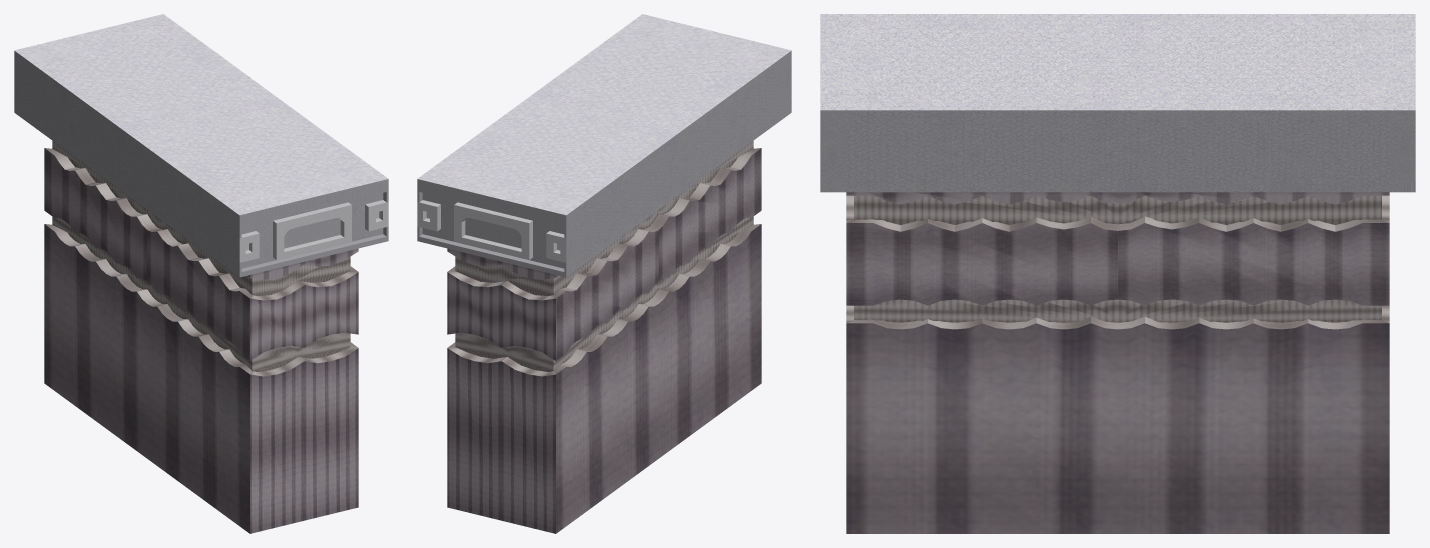
The model's file is BomberMan_Stage_Pillar.fbx.
3 views of the same model, side by side, from view 1: azimuth 30°, elevation 25°; view 2: azimuth 150°, elevation 25°; view 3: azimuth 270°, elevation 25° (orthographic). The views are drawn at different scales.
Visible parts, largest first — view 1: pCube11; view 2: pCube11; view 3: pCube11.
Boxes of the visible parts, x1=… form: pCube11: x1=14, y1=14, x2=388, y2=533; pCube11: x1=417, y1=14, x2=791, y2=533; pCube11: x1=820, y1=14, x2=1415, y2=533.
Size of the model in its own units: 6.54 by 13.85 by 17.11.
